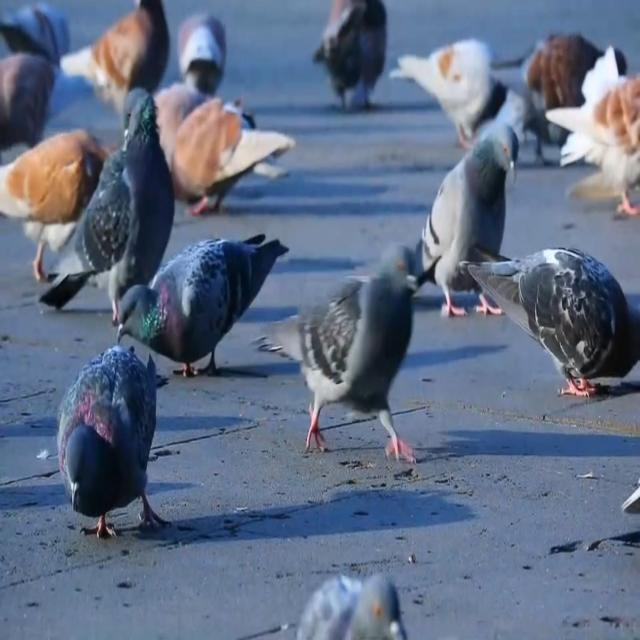bird: (277, 250, 426, 497), (467, 206, 640, 402), (57, 91, 173, 319), (420, 104, 527, 333), (124, 237, 290, 383), (48, 348, 168, 549), (0, 132, 119, 275), (509, 11, 622, 156), (65, 0, 178, 136), (152, 99, 292, 208), (392, 38, 530, 148), (566, 45, 640, 228), (306, 553, 437, 640), (325, 0, 391, 126), (182, 12, 241, 136), (0, 55, 65, 132), (0, 0, 82, 55)
